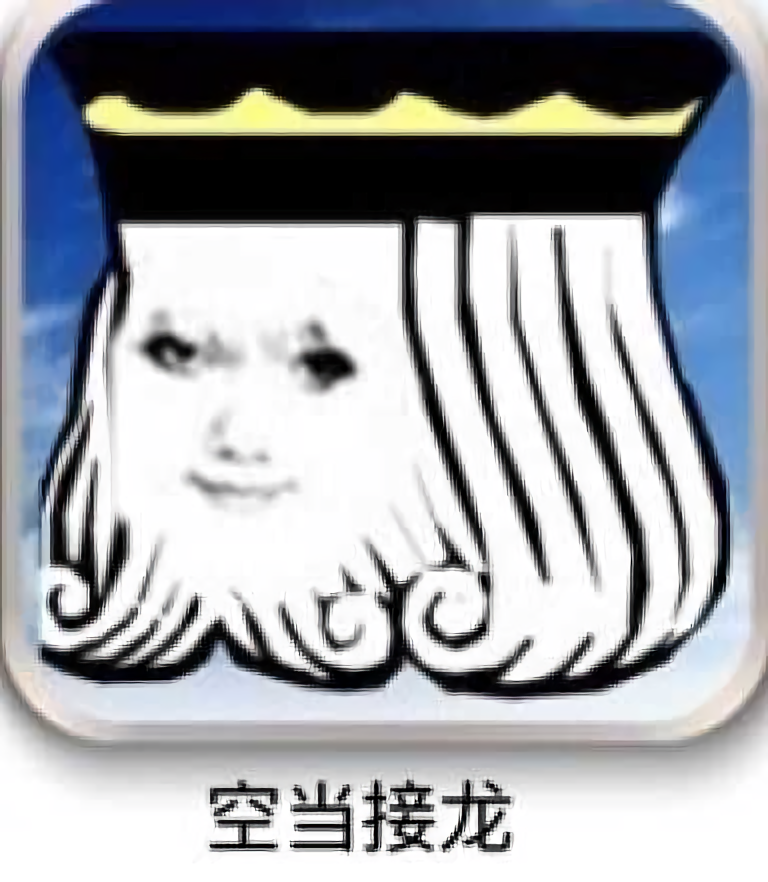dragon: (128, 306, 381, 516)
